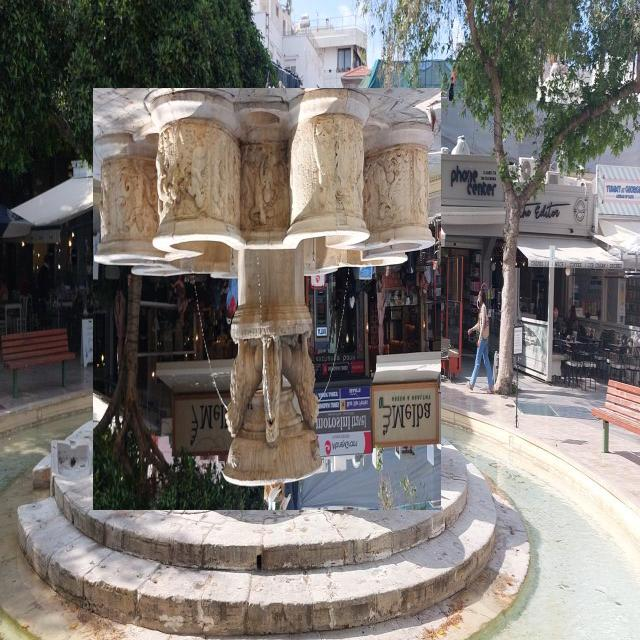Liontaria: (94, 89, 442, 511)
